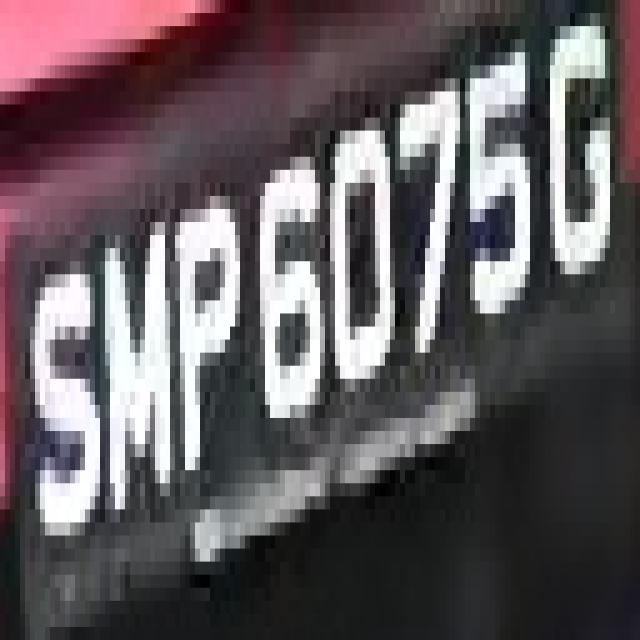0: (315, 78, 400, 392)
5: (450, 52, 545, 353)
6: (245, 131, 340, 470)
7: (375, 65, 460, 379)
G: (530, 0, 615, 313)
M: (90, 196, 180, 548)
P: (160, 170, 245, 522)
S: (20, 261, 100, 483)
